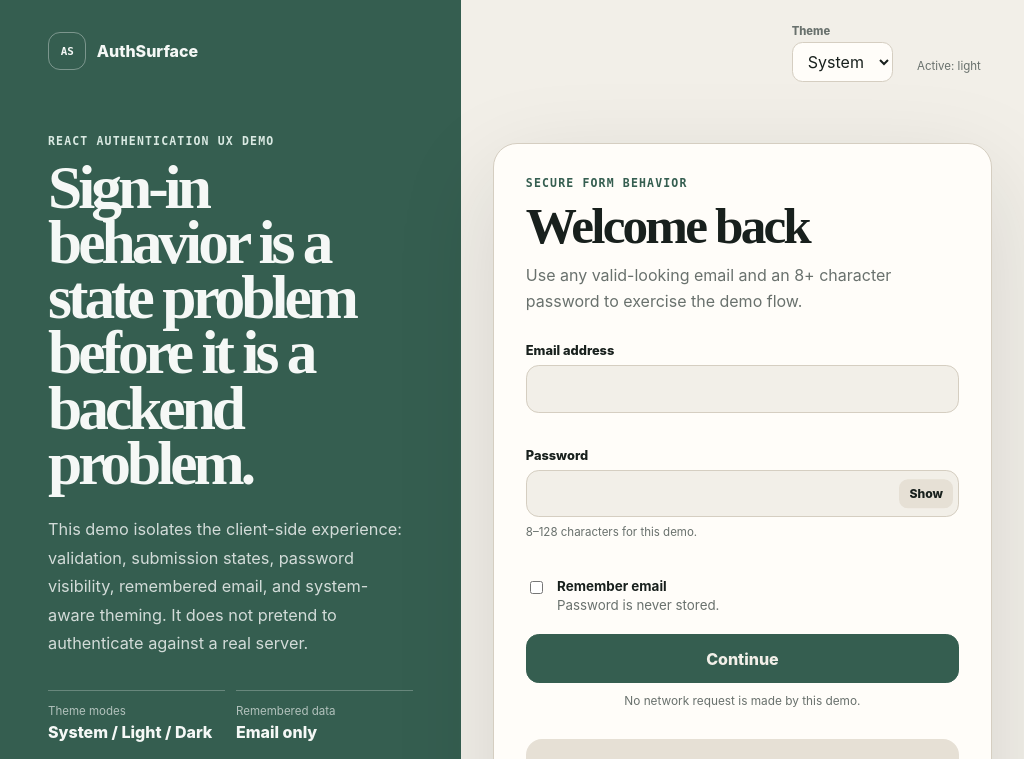
AuthSurface › toggles password visibility without changing the password
Type "correct-horse" into the password field labelled "Password". click: (742, 494)
box: left=526, top=470, right=959, bottom=517
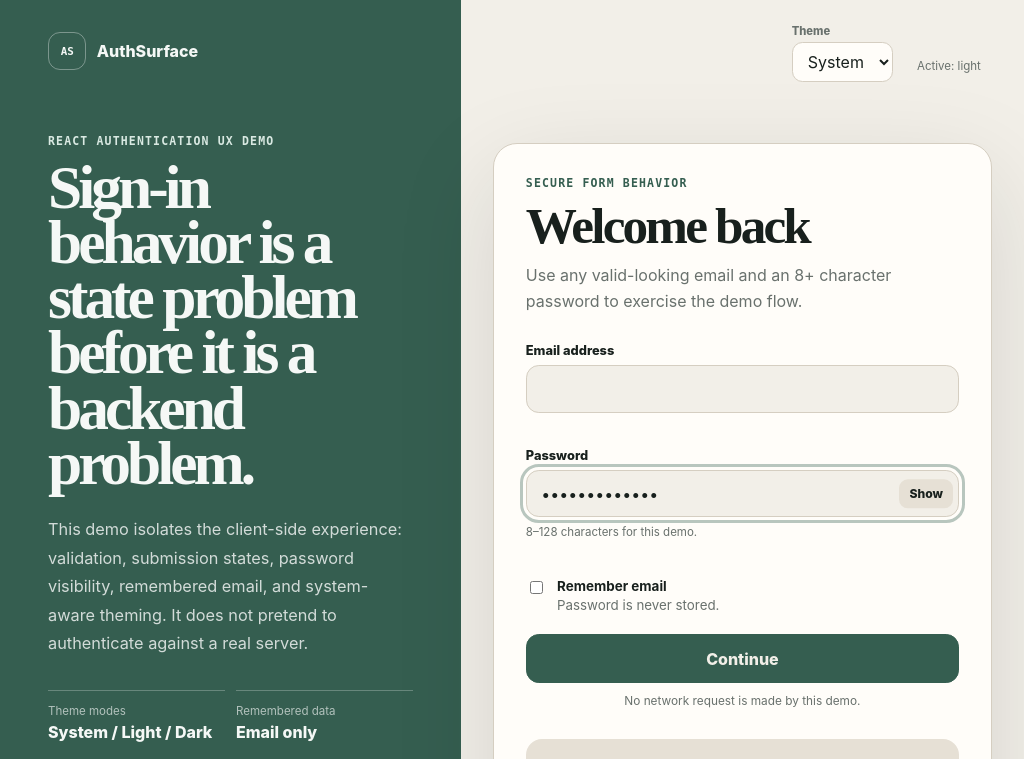
Click the button "Show". click: (926, 494)
box: left=899, top=479, right=953, bottom=508
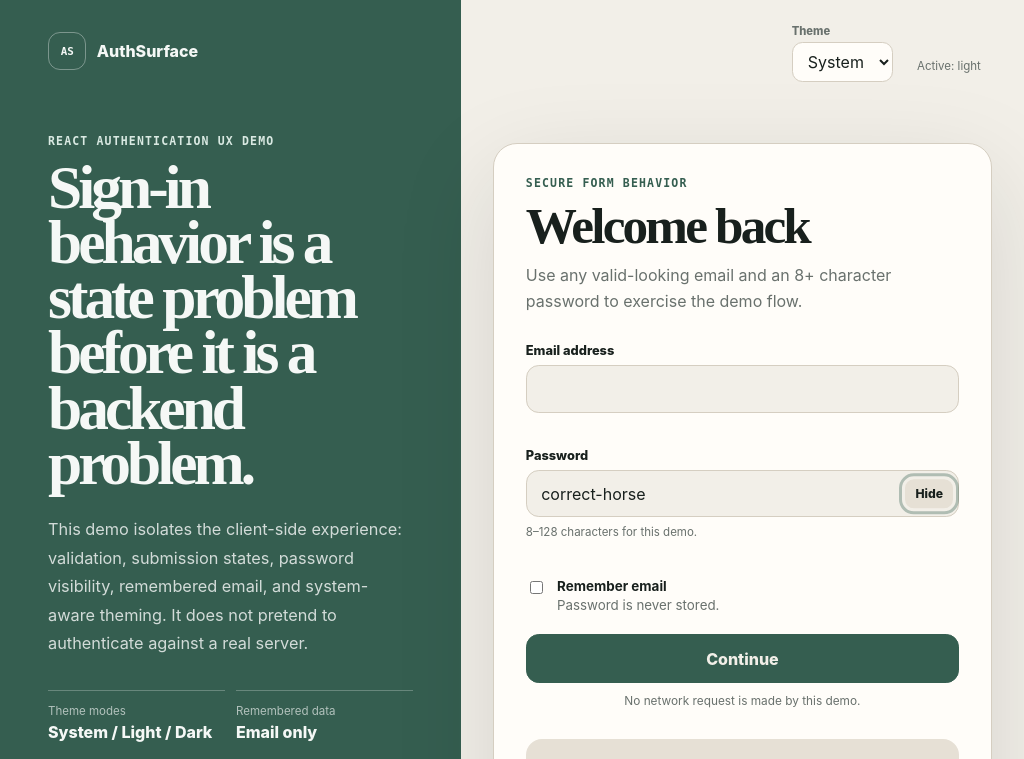
Now the field labelled "Password" shows its text, box left=526, top=470, right=959, bottom=517
